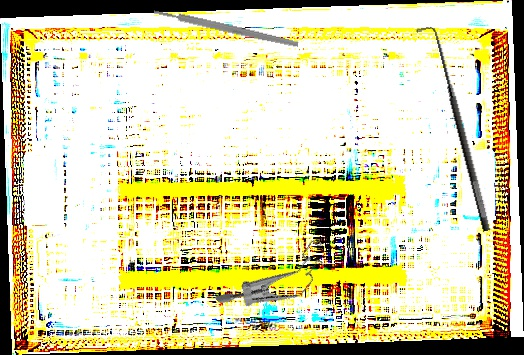Hook Surgical: (415, 22, 494, 236)
Scalpel Handle: (152, 7, 300, 49)
Speculum: (213, 211, 338, 343)
